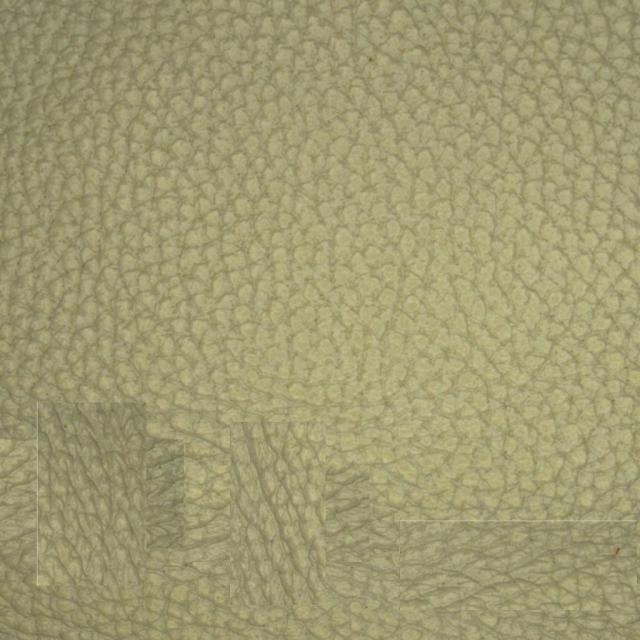Healed Injury: (38, 383, 366, 627), (421, 467, 608, 606)
